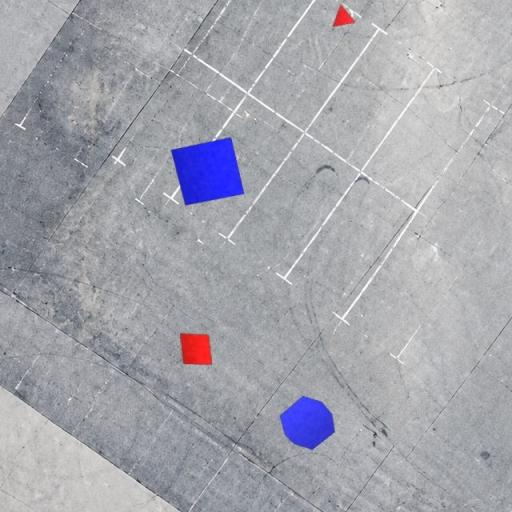BLUE_SQUARE: (170, 136, 246, 206)
RED_SQUARE: (179, 332, 213, 366)
